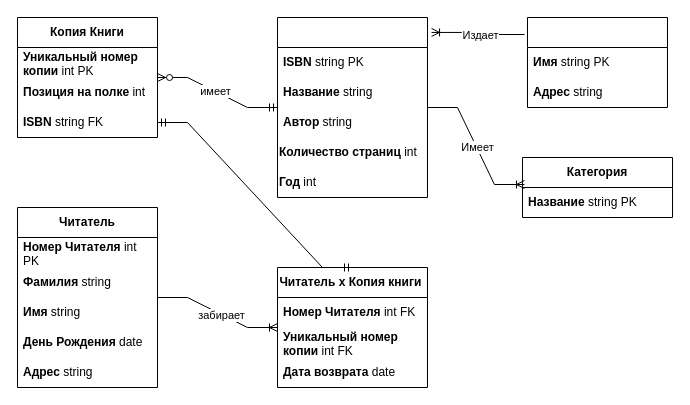
Image size: 690x405. Some labels were removed from this diagram. The box of each missing label's shape, as (x1, y1, x2, y2) in pixels:
Издатель: (526, 16, 668, 108)
Книга: (276, 16, 428, 198)
